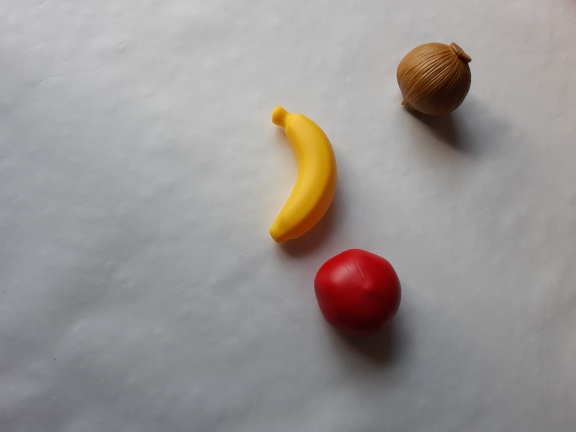banana: (260, 98, 342, 250)
onion: (390, 36, 479, 121)
tomato: (307, 245, 412, 336)
